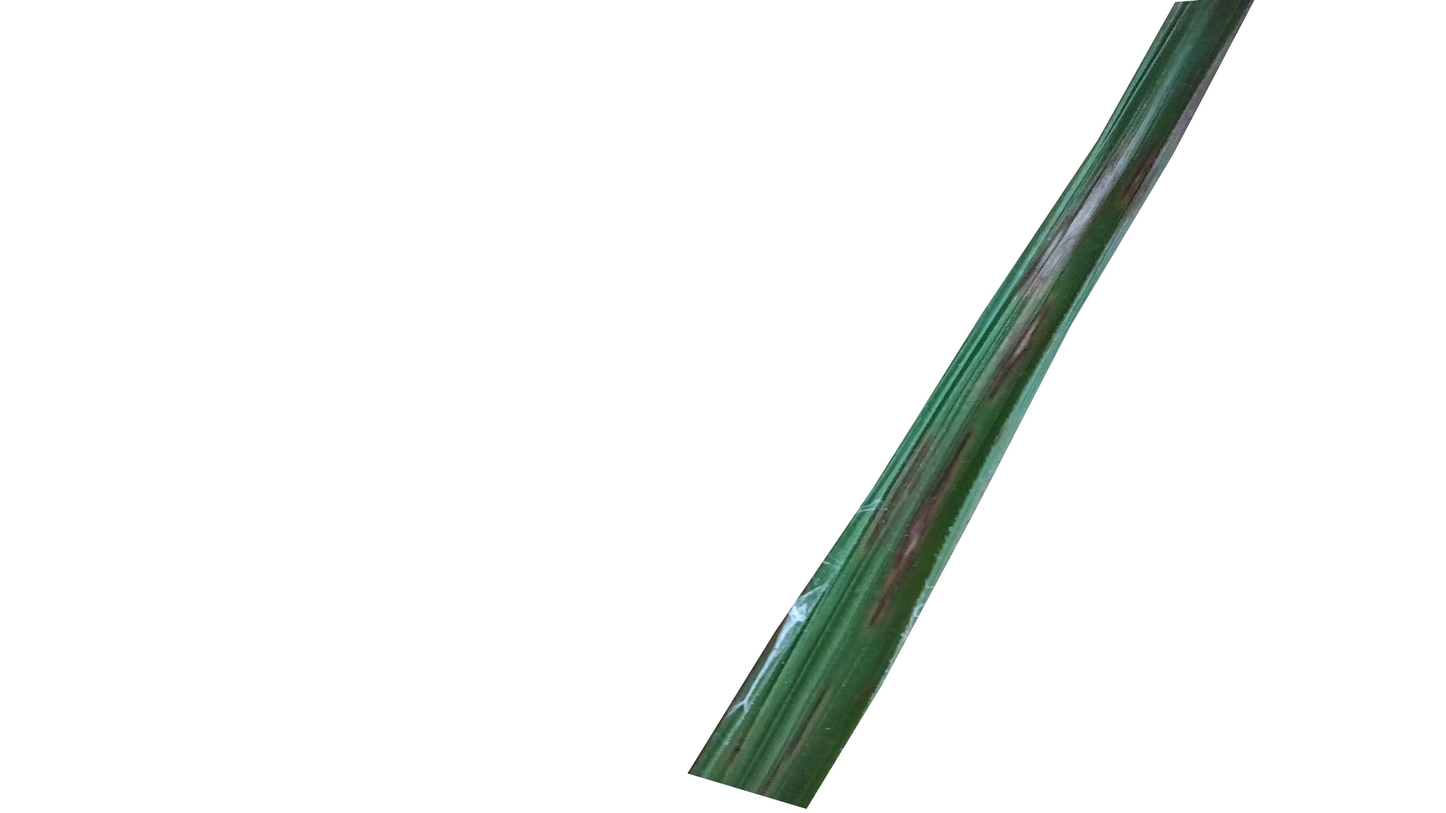Blight: (728, 87, 1178, 716), (1128, 90, 1138, 92)
